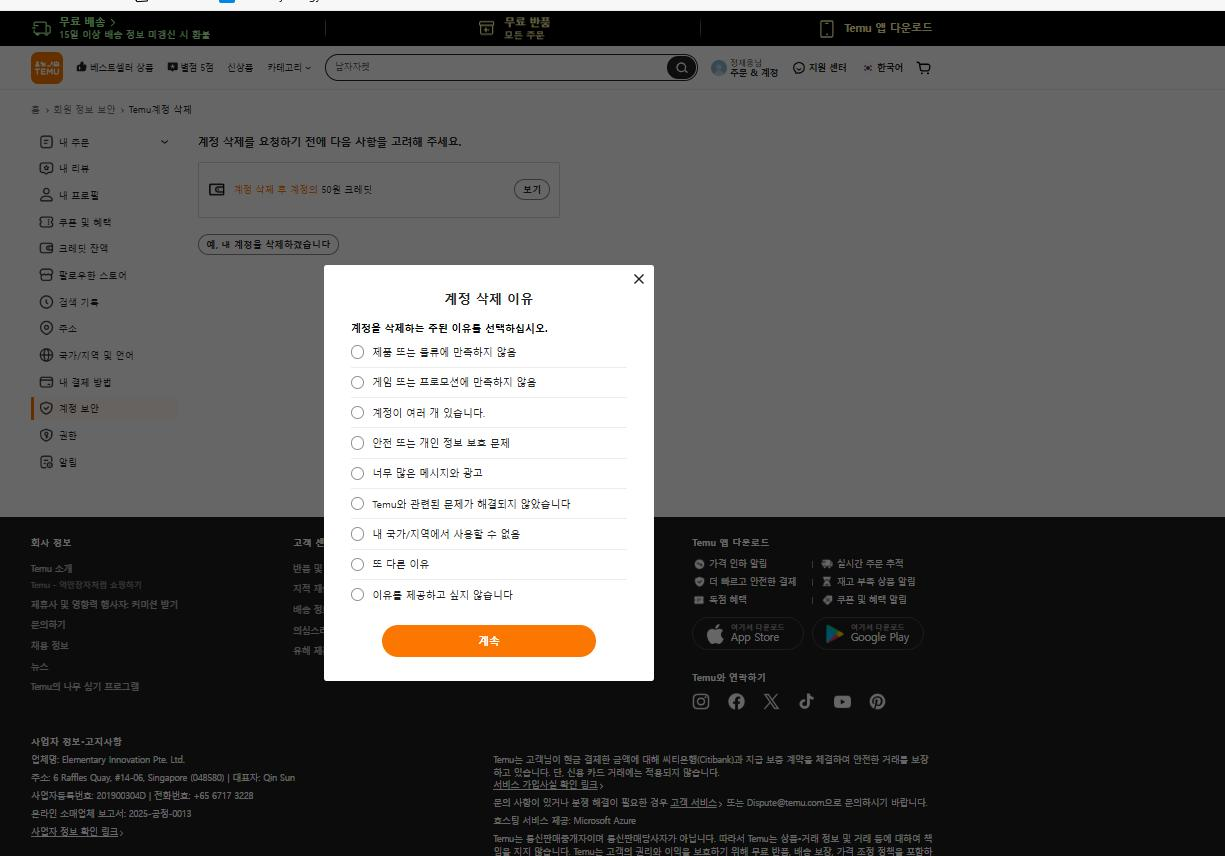button: (382, 624, 597, 658), (26, 12, 220, 42), (196, 231, 347, 261), (818, 12, 938, 45), (469, 13, 565, 43), (34, 345, 145, 367), (33, 265, 134, 288), (27, 183, 110, 210), (33, 127, 115, 154), (26, 236, 116, 259), (792, 51, 851, 85), (28, 289, 111, 313), (33, 212, 120, 234), (37, 396, 105, 422), (38, 371, 120, 392), (41, 444, 94, 472), (859, 56, 913, 83), (34, 158, 105, 178), (167, 55, 217, 79), (513, 176, 553, 202), (33, 426, 85, 443), (38, 322, 81, 338), (915, 55, 937, 81), (227, 58, 258, 75), (629, 269, 647, 289)
checkbox: (347, 372, 544, 395), (348, 495, 575, 514), (345, 523, 526, 546), (346, 431, 513, 452), (349, 401, 489, 426), (349, 344, 525, 361), (350, 585, 516, 602), (345, 467, 485, 485), (346, 553, 439, 576), (263, 58, 316, 78)
input_field: (327, 55, 701, 81)
popup: (327, 265, 655, 680)
